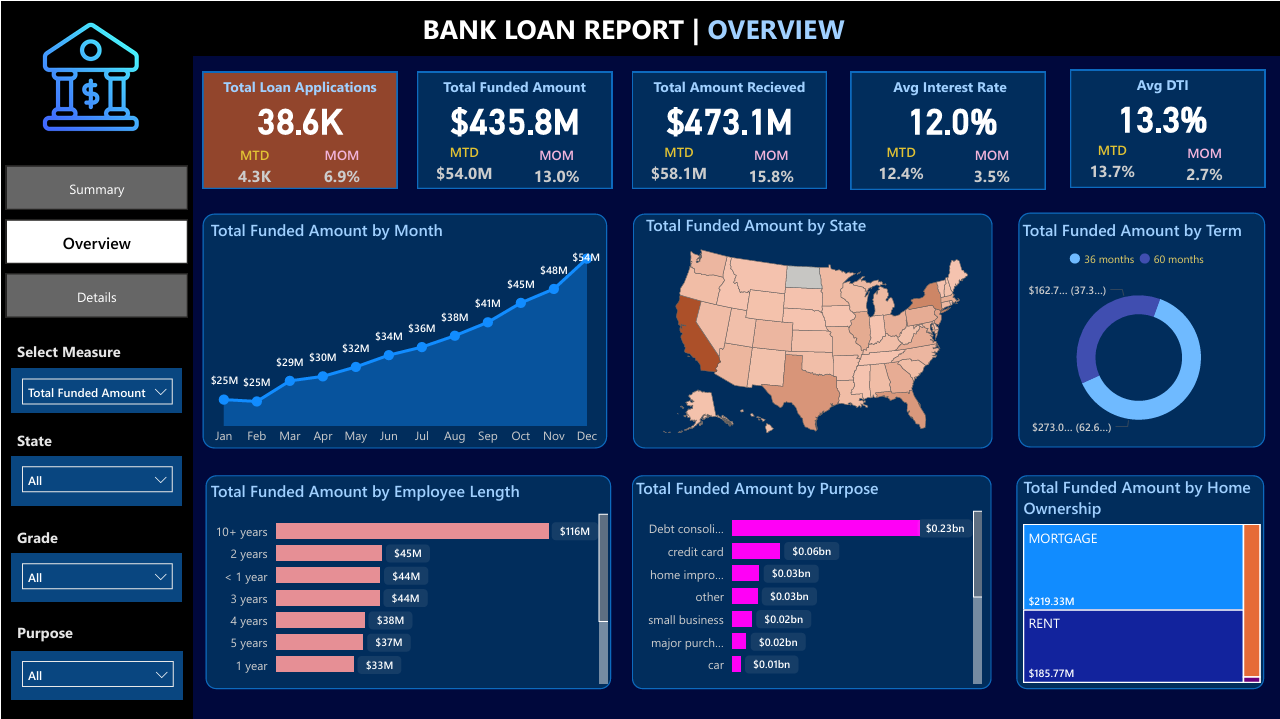

This screenshot's page, from the dashboard's own definition file:
{"tool":"powerbi","page":{"name":"Overview","canvas":[1280,720],"ordinal":1},"visuals":[{"type":"shape","box":[0,0,1280,55],"z":0},{"type":"shape","box":[1070.3,67.9,194.6,117.9],"z":0,"group":"g5"},{"type":"shape","box":[201.5,69.9,195.1,117.3],"z":0,"group":"g1"},{"type":"shape","box":[416.3,69.9,195.1,117.3],"z":0,"group":"g2"},{"type":"shape","box":[631.1,69.9,195.1,117.3],"z":0,"group":"g3"},{"type":"shape","box":[849.9,70.1,194.6,117.9],"z":0,"group":"g4"},{"type":"shape","box":[0,54.8,192,665.5],"z":1000},{"type":"card","fields":{"Values":["financial_loan.Avg DTI"]},"box":[1064.8,87,195.1,54.8],"z":1000,"group":"g5"},{"type":"card","fields":{"Values":["financial_loan.Total Loan Applications"]},"box":[201.5,89,195.1,54.8],"z":1000,"group":"g1"},{"type":"card","fields":{"Values":["financial_loan.Total Funded Amount"]},"box":[416.3,89,195.1,54.8],"z":1000,"group":"g2"},{"type":"card","fields":{"Values":["financial_loan.Total Amount Recieved"]},"box":[631.1,89,195.1,54.8],"z":1000,"group":"g3"},{"type":"card","fields":{"Values":["financial_loan.AVG Inerest Rate"]},"box":[853.7,89.2,195.1,54.8],"z":1000,"group":"g4"},{"type":"textbox","box":[1064.8,67.9,195.1,37],"z":2000,"group":"g5"},{"type":"textbox","box":[201.5,69.9,195.1,37],"z":2000,"group":"g1"},{"type":"textbox","box":[416.3,69.9,195.1,37],"z":2000,"group":"g2"},{"type":"textbox","box":[631.1,69.9,195.1,37],"z":2000,"group":"g3"},{"type":"textbox","box":[851.8,70.1,195.1,37],"z":2000,"group":"g4"},{"type":"shape","box":[201.5,212.4,405,235],"z":2000},{"type":"textbox","box":[415.6,2.5,447.5,49.7],"z":3000},{"type":"card","title":"MTD","fields":{"Values":["financial_loan.MTD Avg DTI"]},"box":[1077.4,138.9,68.5,46.6],"z":3000,"group":"g5"},{"type":"card","title":"MTD","fields":{"Values":["financial_loan.MTD Funded Amount"]},"box":[428.9,140.9,68.5,46.6],"z":3000,"group":"g2"},{"type":"card","title":"MTD","fields":{"Values":["financial_loan.MTD Total Amount Recieved"]},"box":[643.7,140.9,68.5,46.6],"z":3000,"group":"g3"},{"type":"card","title":"MTD","fields":{"Values":["financial_loan.MTD Avg Int Rate"]},"box":[866.3,141.1,68.5,46.6],"z":3000,"group":"g4"},{"type":"card","title":"MTD","fields":{"Values":["financial_loan.MTD Loan Applications"]},"box":[224.3,144,57.7,43.3],"z":3000,"group":"g1"},{"type":"group","id":"g1","title":"Group 1","box":[201.5,69.9,194.6,117.9],"z":4000},{"type":"card","title":"MOM","fields":{"Values":["financial_loan.MOM Avg DTI"]},"box":[1175.5,142,57.7,43.3],"z":4000,"group":"g5"},{"type":"card","title":"MOM","fields":{"Values":["financial_loan.MOM Loan Applications"]},"box":[312.2,144,57.7,43.3],"z":4000,"group":"g1"},{"type":"card","title":"MOM","fields":{"Values":["financial_loan.MOM Total Funded Amount"]},"box":[527,144,57.7,43.3],"z":4000,"group":"g2"},{"type":"card","title":"MOM","fields":{"Values":["financial_loan.MOM Total Amount Recieved"]},"box":[741.8,144,57.7,43.3],"z":4000,"group":"g3"},{"type":"card","title":"MOM","fields":{"Values":["financial_loan.MOM Avg Int Rate"]},"box":[962.5,144.2,57.7,43.3],"z":4000,"group":"g4"},{"type":"group","id":"g2","title":"Group 1","box":[416.3,69.9,194.6,117.9],"z":5000},{"type":"group","id":"g3","title":"Group 1","box":[631.1,69.9,194.6,117.9],"z":6000},{"type":"group","id":"g4","title":"Group 1","box":[849.9,70.1,198.7,117.9],"z":7000},{"type":"group","id":"g5","title":"Group 1","box":[1064.8,67.9,200.1,117.9],"z":8000},{"type":"slicer","fields":{"Values":["financial_loan.address_state"]},"box":[10,455.2,171.3,49.3],"z":9000},{"type":"textbox","box":[10.4,424.1,71.3,34.3],"z":10000},{"type":"slicer","fields":{"Values":["financial_loan.grade"]},"box":[10,551.5,171.3,49.3],"z":11000},{"type":"textbox","box":[10,521.4,71.3,34.3],"z":12000},{"type":"slicer","fields":{"Values":["financial_loan.purpose"]},"box":[10.4,649.7,171.3,49.3],"z":13000},{"type":"textbox","box":[10.2,615.5,97.5,34.6],"z":14000},{"type":"areaChart","fields":{"Y":["financial_loan.Total Funded Amount"],"Category":["Date Table.Month"]},"box":[204.3,216.9,399.2,235.8],"z":15000},{"type":"slicer","fields":{"Values":["Select  Measure.Select  Measure"]},"box":[10,367.3,171.1,44.6],"z":16000},{"type":"textbox","box":[10,334.2,130.9,33.1],"z":17000},{"type":"shape","box":[631.7,211.7,360,235],"z":18000},{"type":"shapeMap","fields":{"Value":["financial_loan.Total Funded Amount"],"Category":["financial_loan.address_state"]},"box":[640,211.7,350,235],"z":19000},{"type":"shape","box":[1017.5,211.2,247.5,235],"z":20000},{"type":"donutChart","fields":{"Y":["financial_loan.Total Funded Amount"],"Category":["financial_loan.term"]},"box":[1016.7,216.7,243.3,230],"z":21000},{"type":"shape","box":[203.8,473.8,406.2,213.8],"z":22000},{"type":"barChart","fields":{"Y":["financial_loan.Total Funded Amount"],"Category":["financial_loan.emp_length"]},"box":[203.8,478.8,407.5,208.8],"z":23000},{"type":"shape","box":[631.2,473.8,360,213.8],"z":24000},{"type":"barChart","fields":{"Y":["financial_loan.Total Funded Amount"],"Category":["financial_loan.purpose"]},"box":[630,476.2,356.2,211.2],"z":25000},{"type":"shape","box":[1016.2,473.8,247.5,213.8],"z":26000},{"type":"treemap","fields":{"Values":["financial_loan.Total Funded Amount"],"Group":["financial_loan.home_ownership"]},"box":[1017.5,475,247.5,211.2],"z":27000},{"type":"pageNavigator","box":[3.8,163.8,182.5,153.8],"z":28000},{"type":"image","box":[6.2,0,165,150],"z":29000}]}

Visuals, with their boxes in screenshot pixels (x1, y1, x2, y2), scaled from the page's 1280x720 canvas onto the 1280x719 screenshot:
shape: <bbox>0, 0, 1279, 55</bbox>
shape: <bbox>1070, 68, 1265, 186</bbox>
shape: <bbox>202, 70, 397, 187</bbox>
shape: <bbox>416, 70, 611, 187</bbox>
shape: <bbox>631, 70, 826, 187</bbox>
shape: <bbox>850, 70, 1044, 188</bbox>
shape: <bbox>0, 55, 192, 718</bbox>
card - financial_loan.Avg DTI: <bbox>1065, 87, 1260, 142</bbox>
card - financial_loan.Total Loan Applications: <bbox>202, 89, 397, 144</bbox>
card - financial_loan.Total Funded Amount: <bbox>416, 89, 611, 144</bbox>
card - financial_loan.Total Amount Recieved: <bbox>631, 89, 826, 144</bbox>
card - financial_loan.AVG Inerest Rate: <bbox>854, 89, 1049, 144</bbox>
textbox: <bbox>1065, 68, 1260, 105</bbox>
textbox: <bbox>202, 70, 397, 107</bbox>
textbox: <bbox>416, 70, 611, 107</bbox>
textbox: <bbox>631, 70, 826, 107</bbox>
textbox: <bbox>852, 70, 1047, 107</bbox>
shape: <bbox>202, 212, 606, 447</bbox>
textbox: <bbox>416, 2, 863, 52</bbox>
"MTD" card: <bbox>1077, 139, 1146, 185</bbox>
"MTD" card: <bbox>429, 141, 497, 187</bbox>
"MTD" card: <bbox>644, 141, 712, 187</bbox>
"MTD" card: <bbox>866, 141, 935, 187</bbox>
"MTD" card: <bbox>224, 144, 282, 187</bbox>
"Group 1" group: <bbox>202, 70, 396, 188</bbox>
"MOM" card: <bbox>1176, 142, 1233, 185</bbox>
"MOM" card: <bbox>312, 144, 370, 187</bbox>
"MOM" card: <bbox>527, 144, 585, 187</bbox>
"MOM" card: <bbox>742, 144, 800, 187</bbox>
"MOM" card: <bbox>962, 144, 1020, 187</bbox>
"Group 1" group: <bbox>416, 70, 611, 188</bbox>
"Group 1" group: <bbox>631, 70, 826, 188</bbox>
"Group 1" group: <bbox>850, 70, 1049, 188</bbox>
"Group 1" group: <bbox>1065, 68, 1265, 186</bbox>
slicer - financial_loan.address_state: <bbox>10, 455, 181, 504</bbox>
textbox: <bbox>10, 424, 82, 458</bbox>
slicer - financial_loan.grade: <bbox>10, 551, 181, 600</bbox>
textbox: <bbox>10, 521, 81, 555</bbox>
slicer - financial_loan.purpose: <bbox>10, 649, 182, 698</bbox>
textbox: <bbox>10, 615, 108, 649</bbox>
areaChart - financial_loan.Total Funded Amount x Date Table.Month: <bbox>204, 217, 604, 452</bbox>
slicer - Select  Measure.Select  Measure: <bbox>10, 367, 181, 411</bbox>
textbox: <bbox>10, 334, 141, 367</bbox>
shape: <bbox>632, 211, 992, 446</bbox>
shapeMap - financial_loan.Total Funded Amount x financial_loan.address_state: <bbox>640, 211, 990, 446</bbox>
shape: <bbox>1018, 211, 1265, 446</bbox>
donutChart - financial_loan.Total Funded Amount x financial_loan.term: <bbox>1017, 216, 1260, 446</bbox>
shape: <bbox>204, 473, 610, 687</bbox>
barChart - financial_loan.Total Funded Amount x financial_loan.emp_length: <bbox>204, 478, 611, 687</bbox>
shape: <bbox>631, 473, 991, 687</bbox>
barChart - financial_loan.Total Funded Amount x financial_loan.purpose: <bbox>630, 476, 986, 686</bbox>
shape: <bbox>1016, 473, 1264, 687</bbox>
treemap - financial_loan.Total Funded Amount x financial_loan.home_ownership: <bbox>1018, 474, 1265, 685</bbox>
pageNavigator: <bbox>4, 164, 186, 317</bbox>
image: <bbox>6, 0, 171, 150</bbox>
